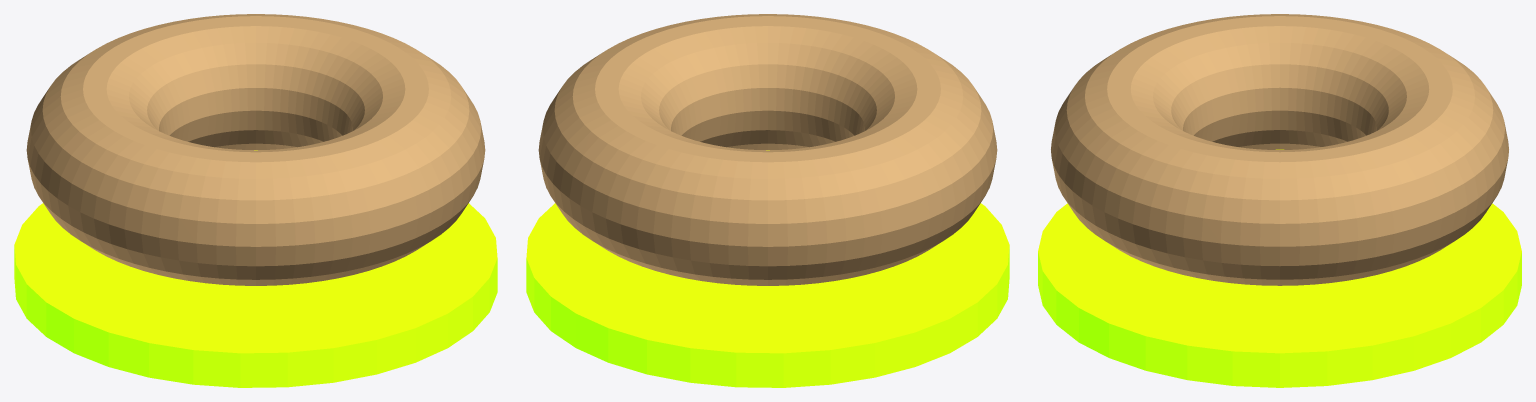
File: food_donut.glb
3 renders of one model, left to right at view 1: azimuth 30°, elevation 25°; view 2: azimuth 150°, elevation 25°; view 3: azimuth 270°, elevation 25°, orthographic.
Parts seen in each view (by area): view 1: 01_06_Popular_Food_Donut_part_01, 01_06_Popular_Food_Donut_ROOT_base; view 2: 01_06_Popular_Food_Donut_part_01, 01_06_Popular_Food_Donut_ROOT_base; view 3: 01_06_Popular_Food_Donut_part_01, 01_06_Popular_Food_Donut_ROOT_base.
Part boxes in pixels (<box>): 01_06_Popular_Food_Donut_part_01: <box>26,14,485,285</box>; 01_06_Popular_Food_Donut_ROOT_base: <box>14,150,497,387</box>; 01_06_Popular_Food_Donut_part_01: <box>538,14,997,285</box>; 01_06_Popular_Food_Donut_ROOT_base: <box>526,150,1009,387</box>; 01_06_Popular_Food_Donut_part_01: <box>1051,14,1508,285</box>; 01_06_Popular_Food_Donut_ROOT_base: <box>1038,149,1521,387</box>.
Bounding box in the file's own units: 0.76 × 0.3408 × 0.76.
